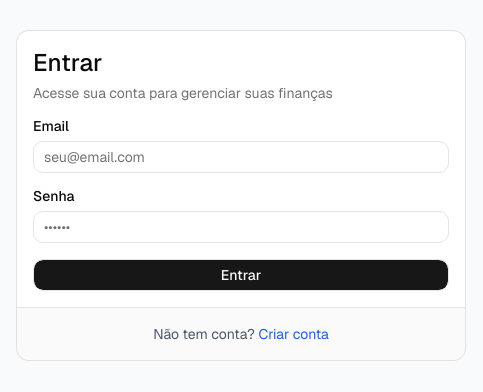
Scenario: LoginPage › exibe erro quando email é inválido
This screenshot has width=483, height=392.
Type "emailinvalido" into the field labelled "Email" at (241, 156), box [33, 140, 449, 172]
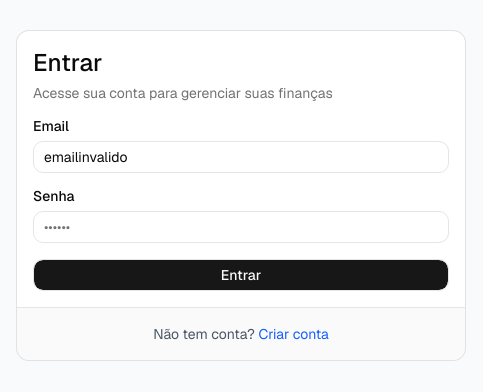
Type "123456" into the password field labelled "Senha" at (241, 226), box [33, 210, 449, 242]
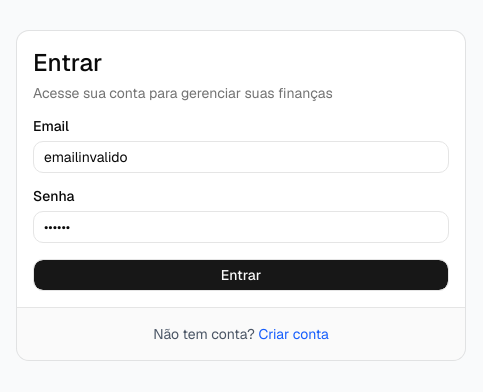
Submit the form "Email Senha Entrar", box [33, 118, 449, 290]
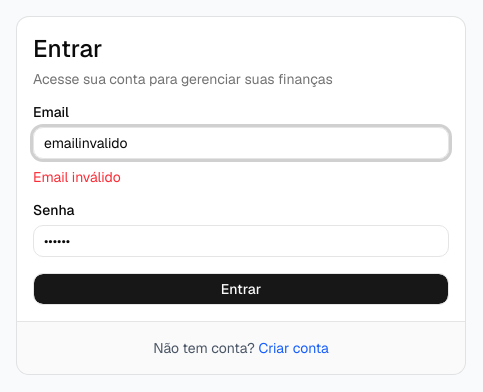
Check: the text "Email inválido" is shown, box [33, 168, 121, 186]
